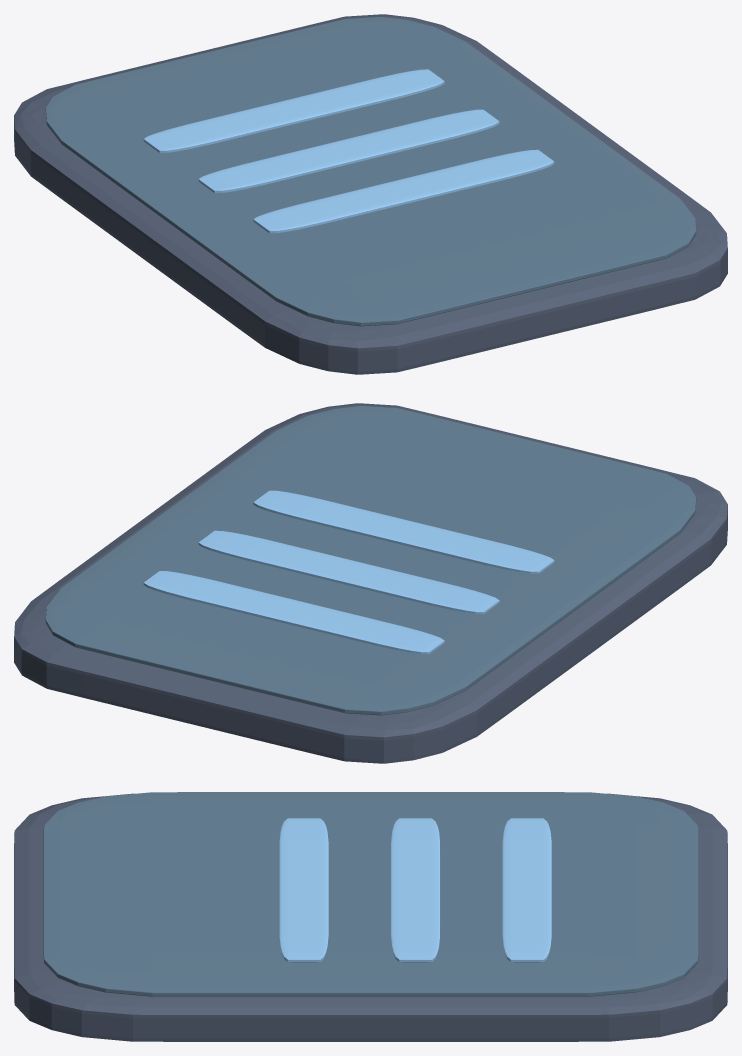
File: tablet.glb
3 views of the same model, one above another, from view 1: azimuth 30°, elevation 25°; view 2: azimuth 150°, elevation 25°; view 3: azimuth 270°, elevation 25° (orthographic).
Visible parts, largest first — view 1: screen, body, ui1, ui2, ui0; view 2: screen, body, ui2, ui1, ui0; view 3: screen, body, ui2, ui0, ui1.
Part boxes in pixels (x1,y1,x2,y2): screen: (45, 17, 696, 326); body: (14, 14, 727, 374); ui1: (198, 109, 499, 193); ui2: (253, 149, 554, 233); ui0: (143, 69, 444, 152); screen: (45, 406, 696, 715); body: (14, 403, 727, 763); ui2: (253, 490, 554, 574); ui1: (198, 530, 499, 614); ui0: (143, 571, 444, 654); screen: (43, 792, 698, 996); body: (14, 793, 727, 1041); ui2: (279, 818, 328, 962); ui0: (502, 818, 551, 962); ui1: (391, 818, 440, 962).
Size of the model in its own units: 0.47 by 0.049 by 0.64.
